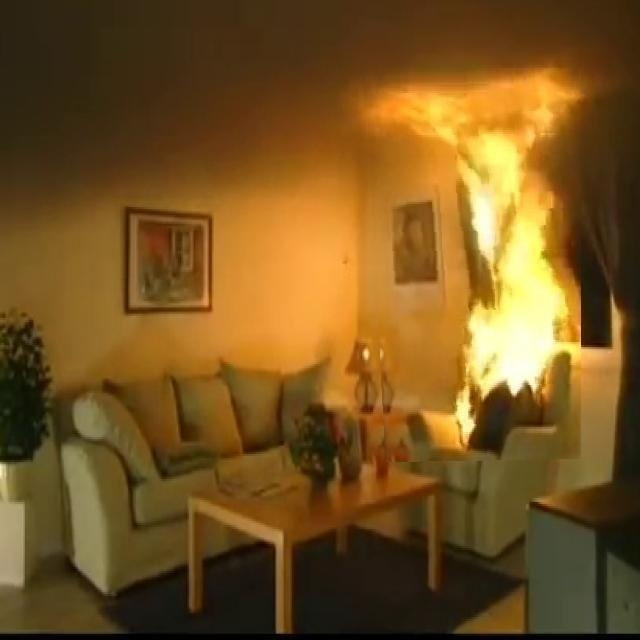fire: (405, 84, 576, 394)
smoke: (0, 1, 360, 206)
